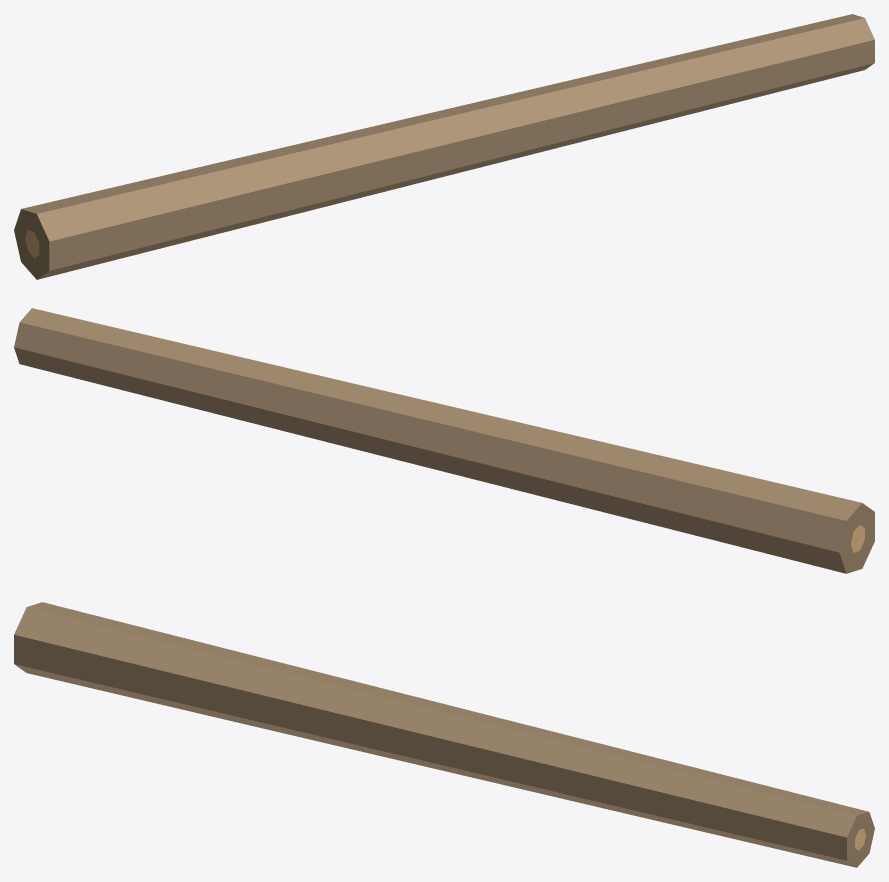
File: stick_final.glb
3 views of the same model, one above another, from view 1: azimuth 30°, elevation 25°; view 2: azimuth 150°, elevation 25°; view 3: azimuth 330°, elevation 25° (orthographic).
Parts seen in each view (by area): view 1: Stick; view 2: Stick; view 3: Stick.
Boxes of the visible parts, left/top/right/bottom form: Stick: left=14, top=14, right=874, bottom=279; Stick: left=14, top=308, right=874, bottom=573; Stick: left=14, top=602, right=874, bottom=867.
Bounding box in the file's own units: 0.975 × 0.0741 × 0.0722.
